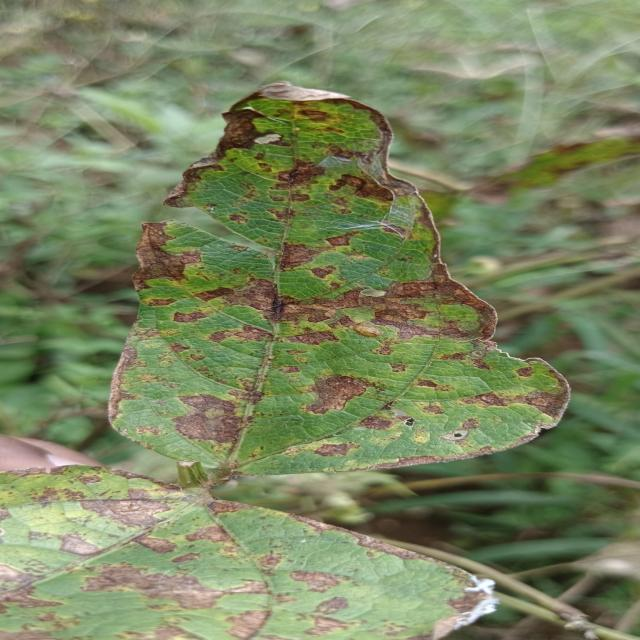Black gram_leaf spot: (95, 74, 593, 478), (11, 463, 493, 640)
